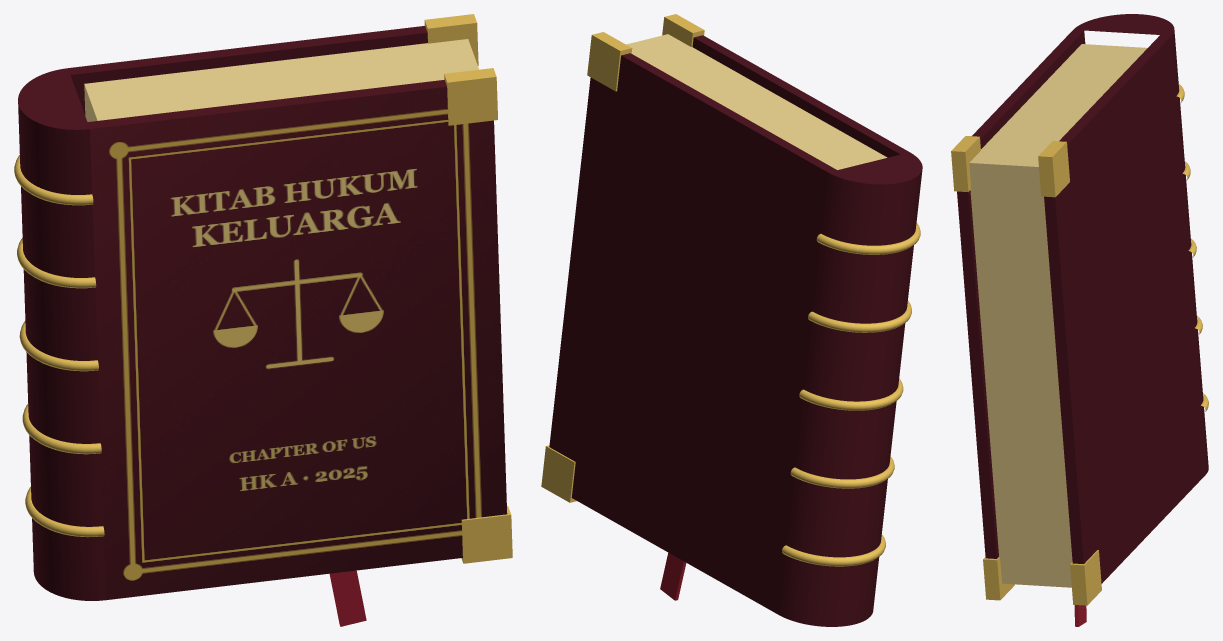
File: kitab.glb
3 renders of one model, left to right at view 1: azimuth 30°, elevation 25°; view 2: azimuth 150°, elevation 25°; view 3: azimuth 270°, elevation 25°, orthographic. The views are drawn at different scales.
Size of the model in its own units: 1.33 by 1.71 by 0.7781.
Materials: 5 (1 with a texture image).
